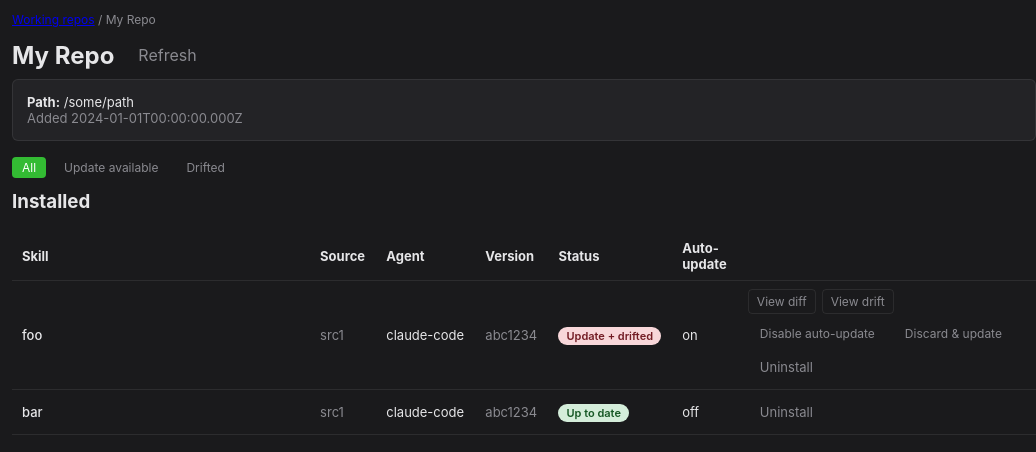
it: WorkingRepoDetail › filters to only update-available installs when that chip is clicked
The image size is (1036, 452).
Check: the column heading "Status" is shown, box [548,232,672,280]
Step 1. Click the button "Update available" → coordinates (111, 168), box [54,157,168,178]
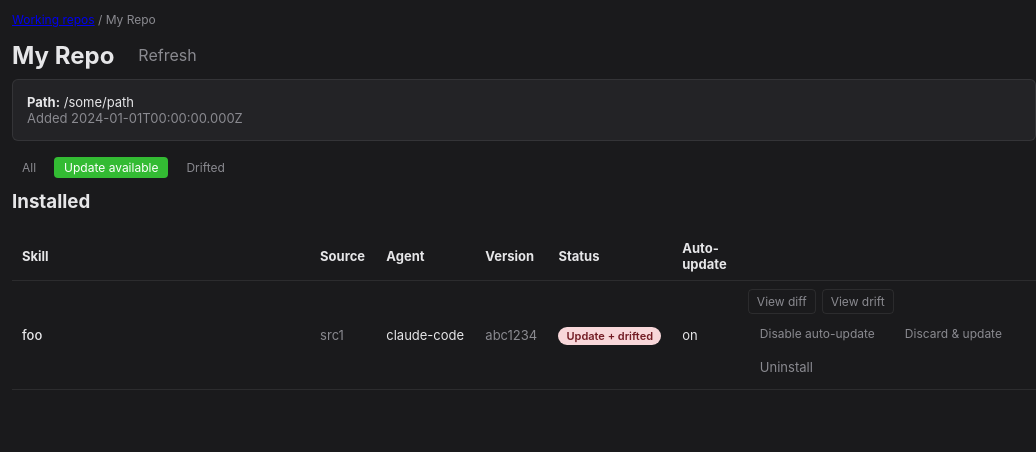
Check: the link "bar" is gone
